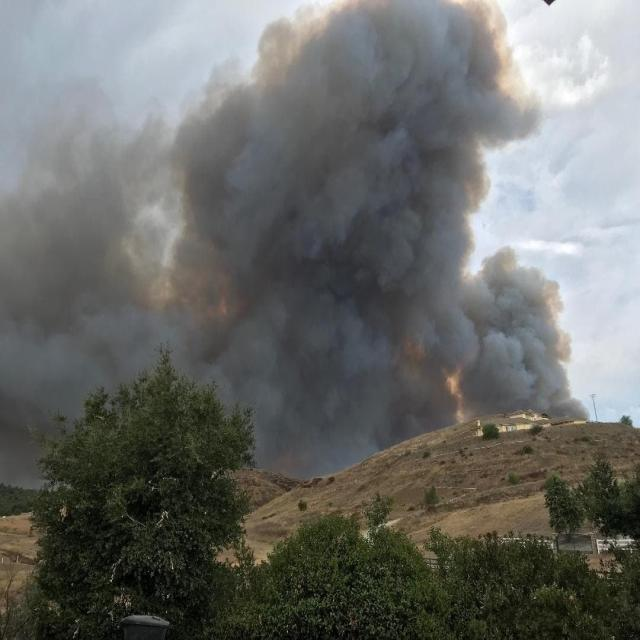Smoke: (160, 0, 557, 487), (3, 66, 185, 502), (450, 237, 594, 432)
